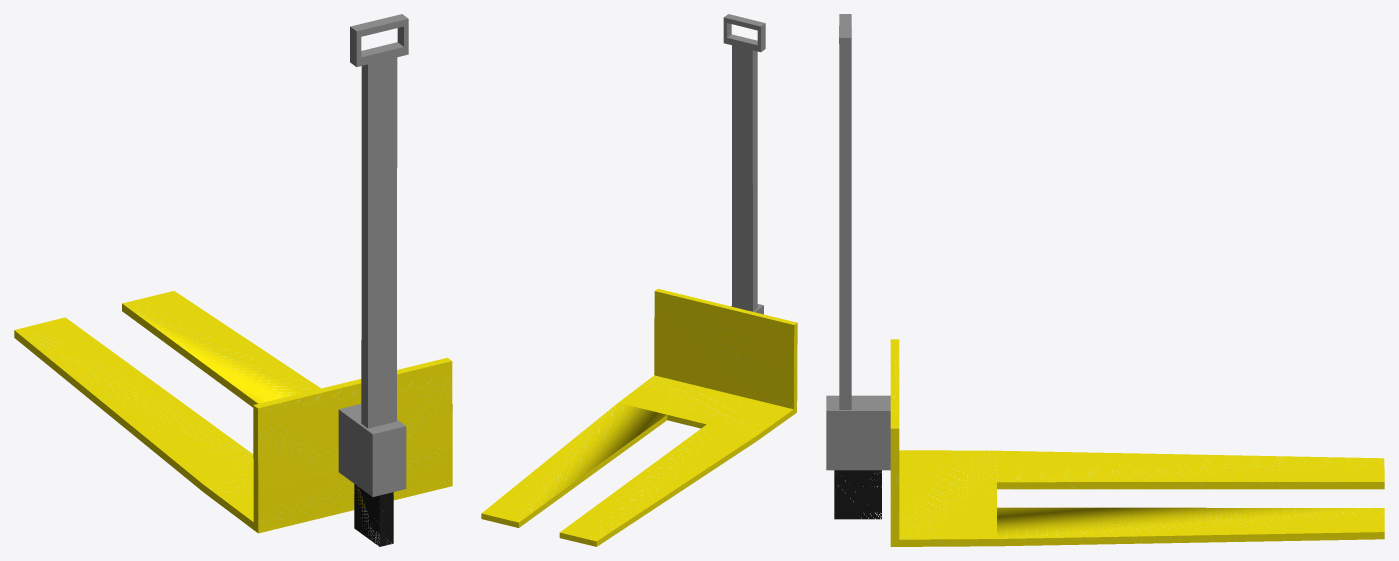
Rendered from PALLET JACK (2).fbx.
3 views of the same model, side by side, from view 1: azimuth 30°, elevation 25°; view 2: azimuth 150°, elevation 25°; view 3: azimuth 270°, elevation 25° (orthographic). The views are drawn at different scales.
Parts seen in each view (by area): view 1: PALLET_JACK__2_; view 2: PALLET_JACK__2_; view 3: PALLET_JACK__2_.
Part boxes in pixels (box(x1,y1,x2,y2)): PALLET_JACK__2_: box(14, 14, 452, 546); PALLET_JACK__2_: box(481, 14, 797, 546); PALLET_JACK__2_: box(826, 14, 1384, 546).
Size of the model in its own units: 37.7 by 95.87 by 99.18.
Materials: 3 (3 with a texture image).
